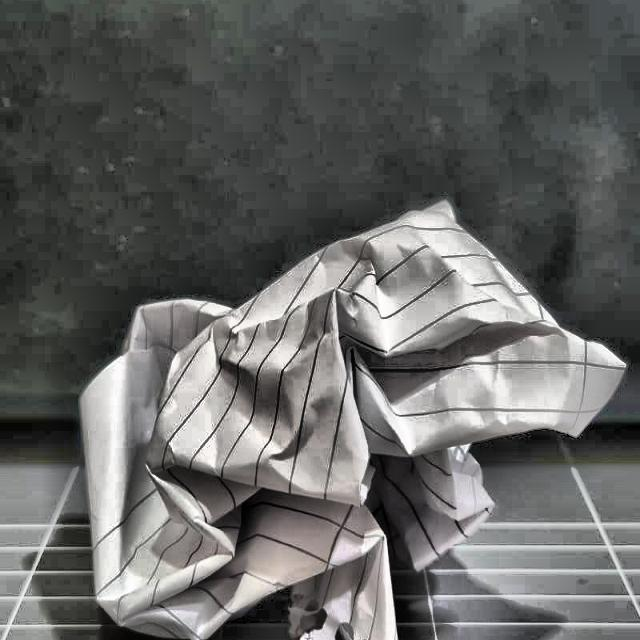paper: (68, 211, 630, 640)
